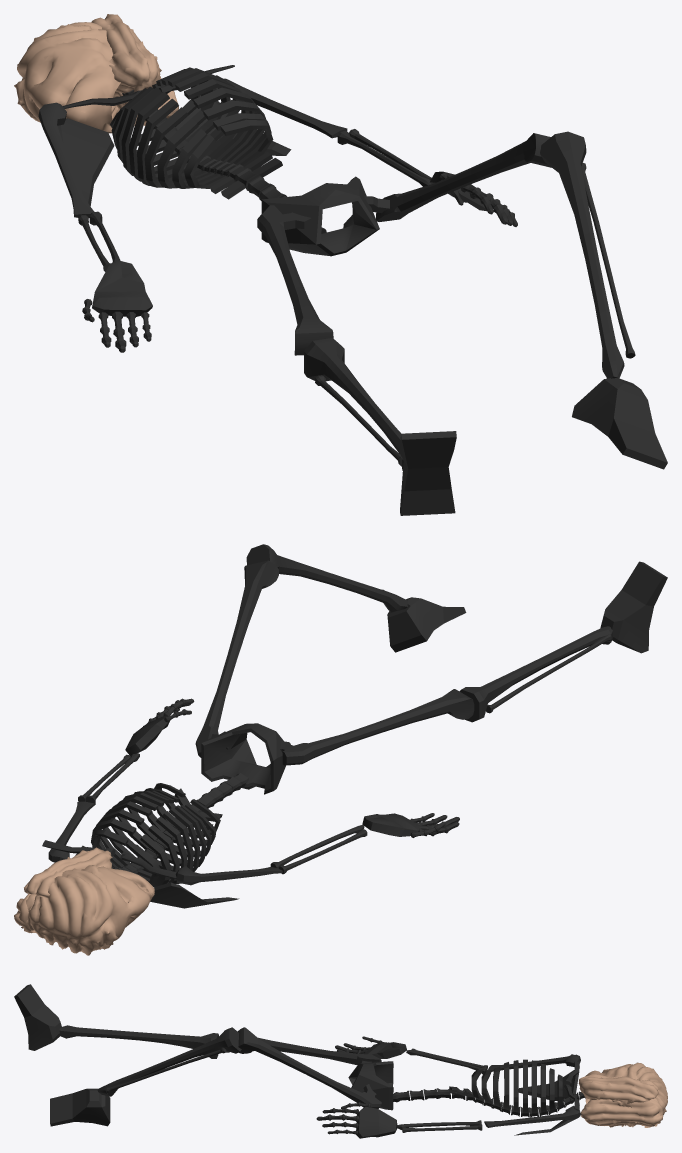
The model's file is cadavre Manchalack.FBX.
The picture shows the model from 3 angles, top to bottom: view 1: azimuth 30°, elevation 25°; view 2: azimuth 150°, elevation 25°; view 3: azimuth 270°, elevation 25°; orthographic projection. The views are drawn at different scales.
Parts seen in each view (by area): view 1: cage thoracique, tibia, pied001, LP, fémur, bras, bassin001, main, Object003, avant bras, main001, Box015; view 2: cage thoracique, LP, fémur, pied001, tibia, bassin001, bras, avant bras, main, Object003, main001, Box015; view 3: cage thoracique, pied001, tibia, fémur, bras, Object002, Object003, main001, bassin001, LP, avant bras, main (+1 smaller).
Part boxes in pixels (x1=…): cage thoracique: x1=110, y1=67, x2=326, y2=233; tibia: x1=304, y1=131, x2=635, y2=470; pied001: x1=399, y1=378, x2=667, y2=515; LP: x1=14, y1=22, x2=137, y2=133; fémur: x1=257, y1=133, x2=551, y2=355; bras: x1=38, y1=75, x2=347, y2=217; bassin001: x1=261, y1=176, x2=379, y2=256; main: x1=82, y1=261, x2=152, y2=352; Object003: x1=91, y1=14, x2=161, y2=93; avant bras: x1=78, y1=129, x2=431, y2=271; main001: x1=430, y1=171, x2=517, y2=226; Box015: x1=62, y1=65, x2=234, y2=108; cage thoracique: x1=91, y1=773, x2=248, y2=886; LP: x1=18, y1=865, x2=154, y2=955; fémur: x1=195, y1=560, x2=474, y2=765; pied001: x1=387, y1=561, x2=667, y2=653; tibia: x1=246, y1=544, x2=613, y2=722; bassin001: x1=201, y1=723, x2=285, y2=794; bras: x1=48, y1=801, x2=282, y2=908; avant bras: x1=78, y1=753, x2=367, y2=874; main: x1=362, y1=813, x2=459, y2=837; Object003: x1=24, y1=847, x2=112, y2=897; main001: x1=125, y1=698, x2=194, y2=756; Box015: x1=42, y1=840, x2=176, y2=878; cage thoracique: x1=393, y1=1059, x2=585, y2=1117; pied001: x1=14, y1=984, x2=110, y2=1126; tibia: x1=58, y1=1025, x2=241, y2=1096; fémur: x1=226, y1=1027, x2=381, y2=1108; bras: x1=484, y1=1054, x2=581, y2=1135; Object002: x1=580, y1=1098, x2=663, y2=1127; Object003: x1=578, y1=1074, x2=658, y2=1103; main001: x1=316, y1=1102, x2=397, y2=1138; bassin001: x1=348, y1=1061, x2=393, y2=1110; LP: x1=585, y1=1062, x2=667, y2=1127; avant bras: x1=397, y1=1048, x2=487, y2=1132; main: x1=335, y1=1036, x2=406, y2=1058.
Size of the model in its own units: 221 by 120 by 556.
